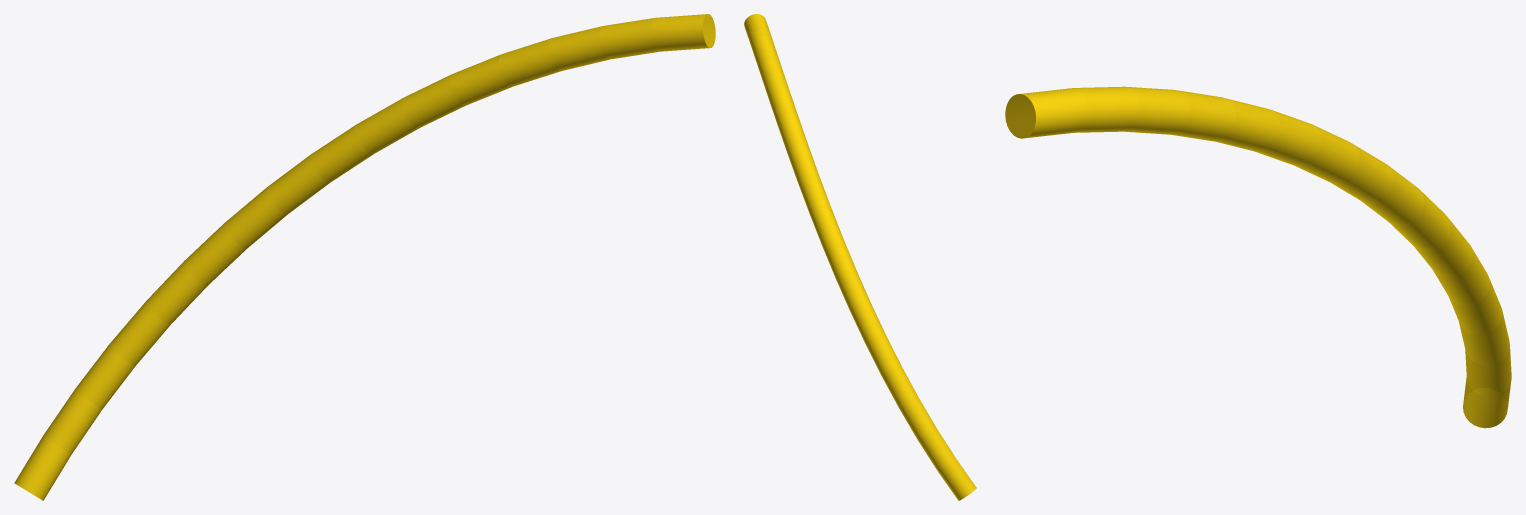
The model's file is Event_421364160_track_71.fbx.
3 renders of one model, left to right at view 1: azimuth 30°, elevation 25°; view 2: azimuth 150°, elevation 25°; view 3: azimuth 270°, elevation 25°, orthographic. The views are drawn at different scales.
Visible parts, largest first — view 1: Model; view 2: Model; view 3: Model.
Boxes of the visible parts, bbox=[...] form: Model: bbox=[14, 14, 715, 500]; Model: bbox=[744, 14, 976, 500]; Model: bbox=[1005, 86, 1511, 428].
Size of the model in its own units: 0.7054 by 0.6328 by 0.4502.
